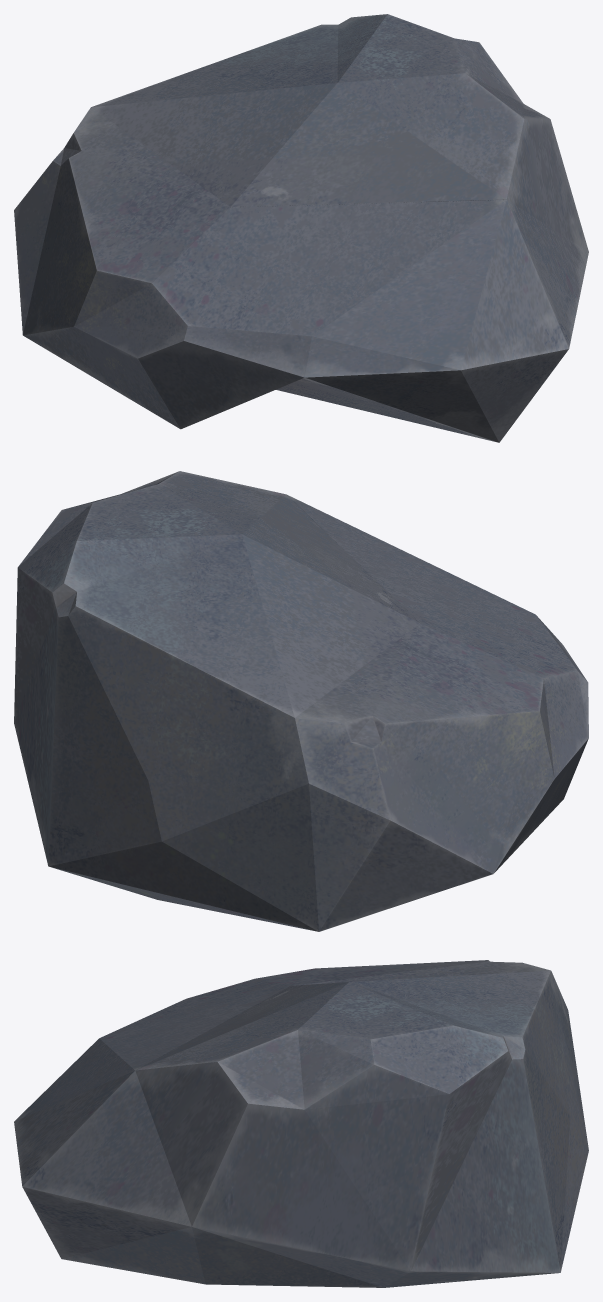
Rendered from rock6.glb.
3 views of the same model, one above another, from view 1: azimuth 30°, elevation 25°; view 2: azimuth 150°, elevation 25°; view 3: azimuth 270°, elevation 25° (orthographic). The views are drawn at different scales.
Visible parts, largest first — view 1: Object_65; view 2: Object_65; view 3: Object_65.
Boxes of the visible parts, left/top/right/bottom form: Object_65: left=14, top=14, right=588, bottom=442; Object_65: left=14, top=471, right=588, bottom=931; Object_65: left=14, top=960, right=588, bottom=1287.
Size of the model in its own units: 1.76 by 1.02 by 1.88.
1 material, 1 textured.
